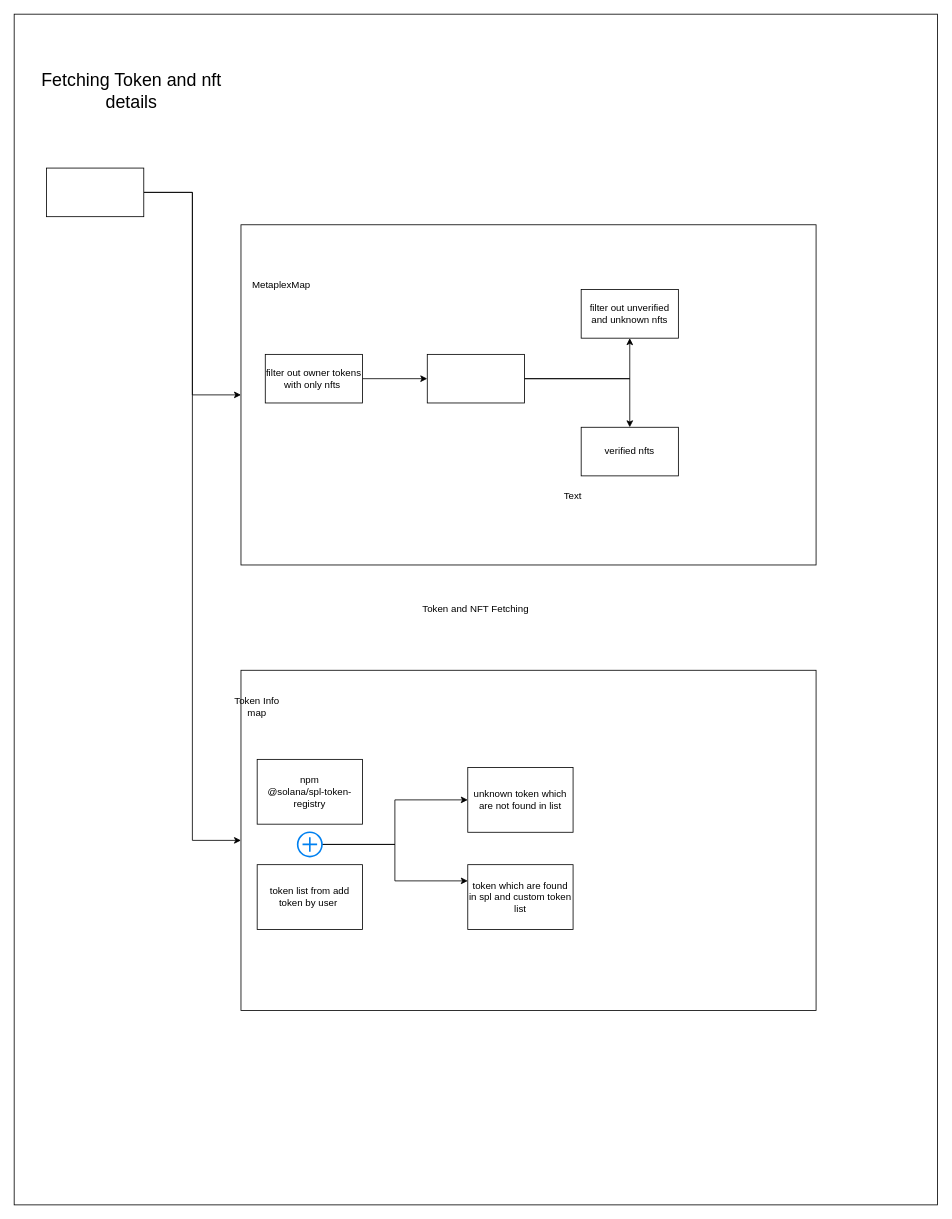
This 952x1219 diagram has some shape labels left out. Here are the shapes that lost their labels. From the top down, the box of each, then its label:
(46, 167, 144, 217): getParsedToken AccountsByOwner
(426, 354, 524, 403): quicknode api
